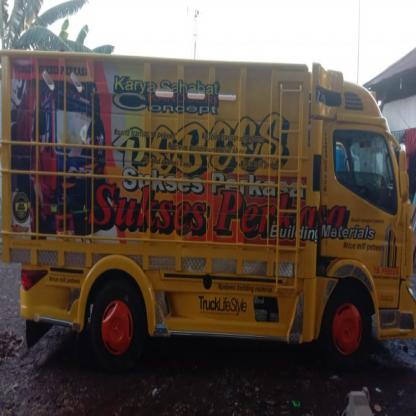truck: (1, 50, 416, 369)
